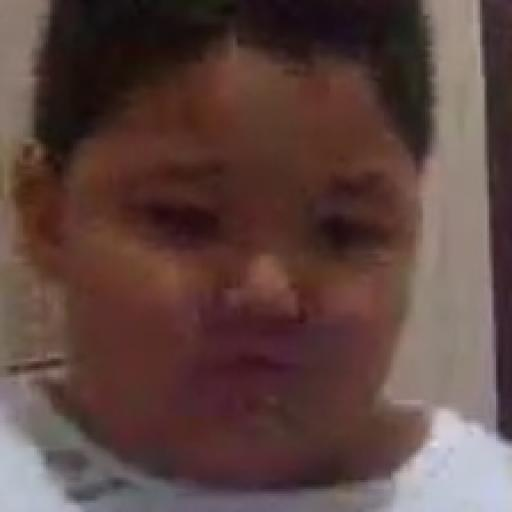Autism: (66, 0, 482, 459)
